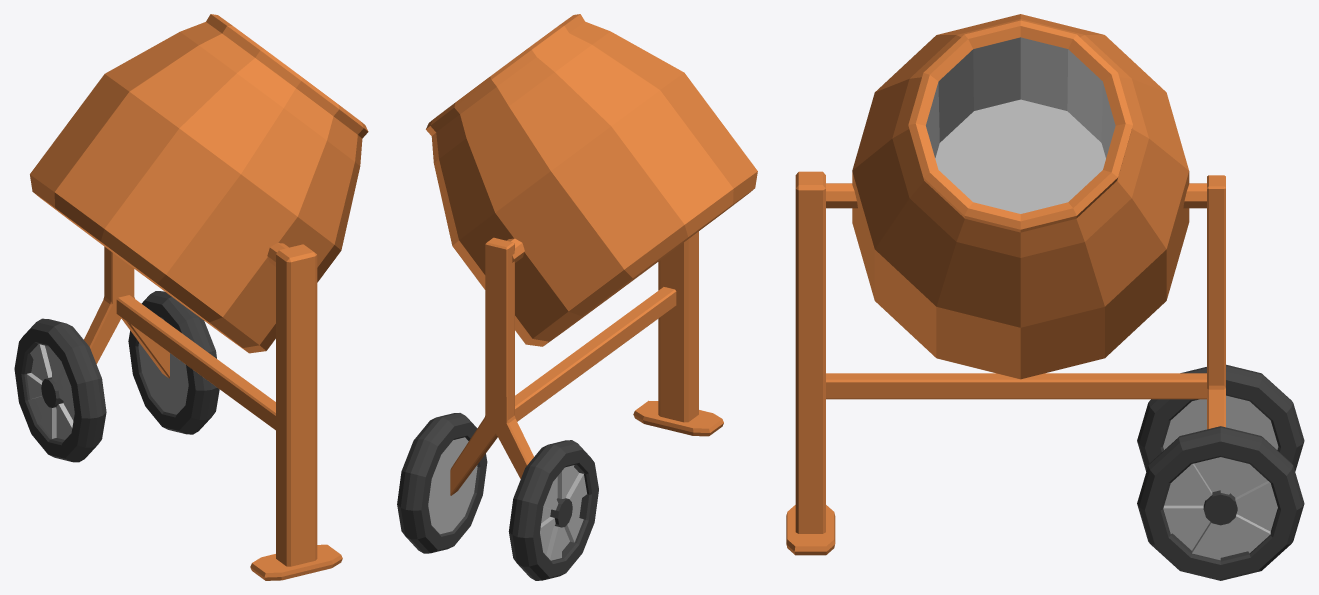
File: Cement Mixer.fbx
3 views of the same model, side by side, from view 1: azimuth 30°, elevation 25°; view 2: azimuth 150°, elevation 25°; view 3: azimuth 270°, elevation 25° (orthographic). The views are drawn at different scales.
Visible parts, largest first — view 1: Cement Mixer; view 2: Cement Mixer; view 3: Cement Mixer.
Boxes of the visible parts, x1,y1,x2,y2 form: Cement Mixer: [14, 14, 368, 580]; Cement Mixer: [397, 14, 757, 580]; Cement Mixer: [786, 14, 1304, 580].
Size of the model in its own units: 101 by 156 by 136.
